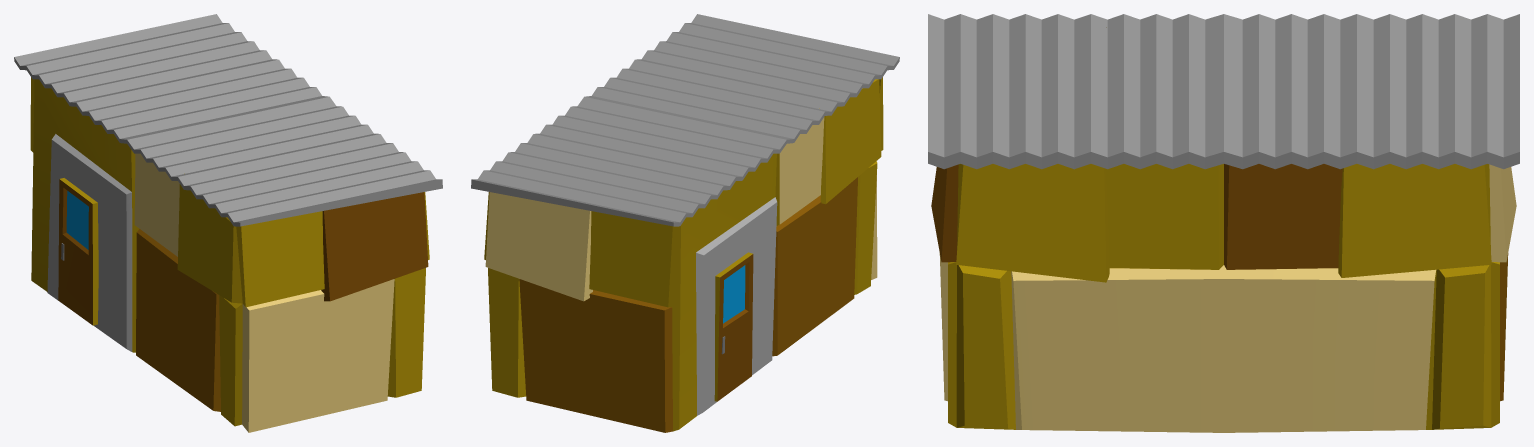
The model's file is House_5.fbx.
3 views of the same model, side by side, from view 1: azimuth 30°, elevation 25°; view 2: azimuth 150°, elevation 25°; view 3: azimuth 270°, elevation 25° (orthographic). The views are drawn at different scales.
Parts seen in each view (by area): view 1: House_5; view 2: House_5; view 3: House_5.
Part boxes in pixels (x1=…): House_5: x1=14, y1=14, x2=442, y2=432; House_5: x1=471, y1=14, x2=899, y2=432; House_5: x1=928, y1=14, x2=1519, y2=432.
Size of the model in its own units: 564 by 577 by 1053.
